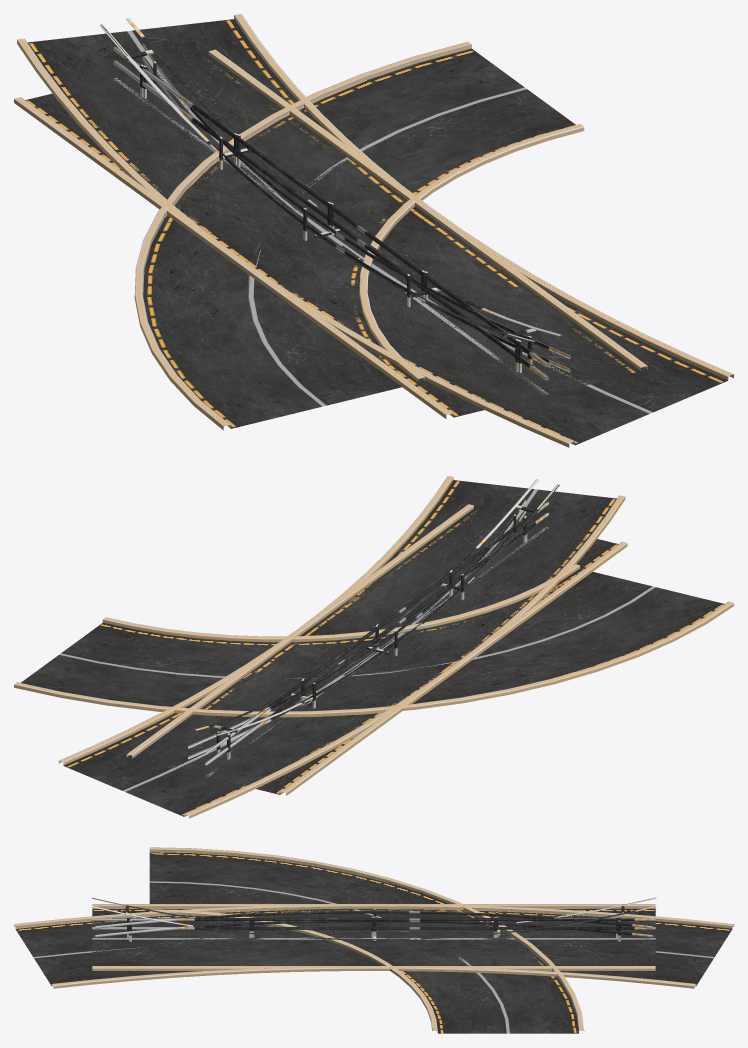
Rendered from Road Props.fbx.
3 renders of one model, top to bottom at view 1: azimuth 30°, elevation 25°; view 2: azimuth 150°, elevation 25°; view 3: azimuth 270°, elevation 25°, orthographic. The views are drawn at different scales.
Parts seen in each view (by area): view 1: Curve_Road_15, Curve_Road_30, Straight_road, Curve_Side_Boundries1, Side_boundries2, Curve_Bridge_Boundries2_Top, Side_boundries1_pCube27; view 2: Curve_Road_15, Curve_Road_30, Straight_road, Curve_Side_Boundries1, Side_boundries2, Curve_Bridge_Boundries2_Top, Side_boundries1_pCube27; view 3: Curve_Road_30, Straight_road, Curve_Road_15, Side_boundries1_pCube27, Curve_Side_Boundries1, Curve_Bridge_Boundries2_Top, Side_boundries1, Side_boundries2.
Boxes of the visible parts, left/top/right/bottom form: Curve_Road_15: left=17, top=14, right=733, bottom=447; Curve_Road_30: left=134, top=41, right=584, bottom=430; Straight_road: left=14, top=49, right=647, bottom=418; Curve_Side_Boundries1: left=142, top=44, right=570, bottom=372; Side_boundries2: left=113, top=47, right=546, bottom=379; Curve_Bridge_Boundries2_Top: left=99, top=17, right=562, bottom=342; Side_boundries1_pCube27: left=115, top=47, right=548, bottom=380; Curve_Road_15: left=58, top=476, right=625, bottom=818; Curve_Road_30: left=14, top=564, right=733, bottom=717; Straight_road: left=126, top=504, right=627, bottom=795; Curve_Side_Boundries1: left=188, top=499, right=525, bottom=759; Side_boundries2: left=207, top=502, right=548, bottom=765; Curve_Bridge_Boundries2_Top: left=194, top=479, right=559, bottom=735; Side_boundries1_pCube27: left=205, top=502, right=546, bottom=765; Curve_Road_30: left=149, top=847, right=584, bottom=1033; Straight_road: left=92, top=904, right=655, bottom=970; Curve_Road_15: left=14, top=905, right=733, bottom=988; Side_boundries1_pCube27: left=92, top=916, right=655, bottom=937; Curve_Side_Boundries1: left=95, top=909, right=652, bottom=941; Curve_Bridge_Boundries2_Top: left=91, top=897, right=656, bottom=942; Side_boundries1: left=92, top=917, right=655, bottom=937; Side_boundries2: left=92, top=917, right=655, bottom=918.
Bounding box in the file's own units: 2645 × 249 × 4381.
Materials: 1 (1 with a texture image).
